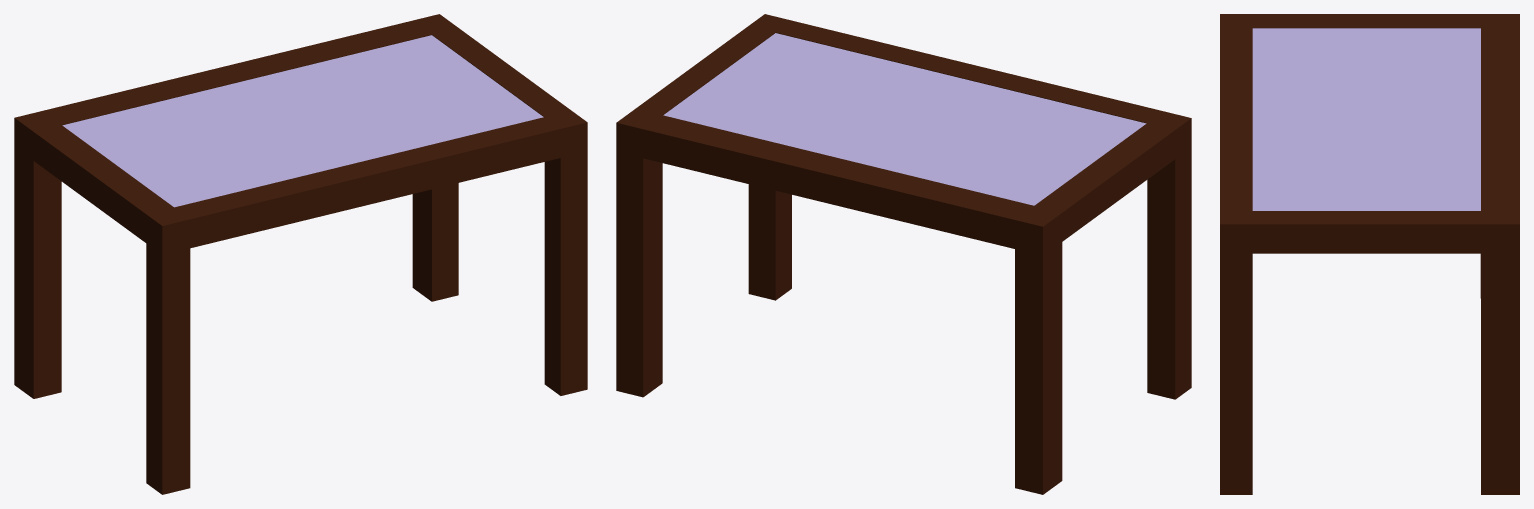
Rendered from table.fbx.
3 renders of one model, left to right at view 1: azimuth 30°, elevation 25°; view 2: azimuth 150°, elevation 25°; view 3: azimuth 270°, elevation 25°, orthographic.
Visible parts, largest first — view 1: Cube; view 2: Cube; view 3: Cube.
Boxes of the visible parts, box(x1,y1,x2,y2) form: Cube: box(14, 14, 587, 494); Cube: box(616, 14, 1191, 494); Cube: box(1220, 14, 1519, 494).
Bounding box in the file's own units: 304 × 183 × 183.
